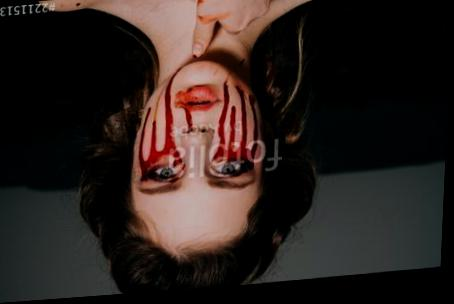Fire: (139, 71, 185, 183), (210, 79, 266, 167), (197, 16, 217, 26), (196, 0, 203, 8), (192, 56, 197, 61)
